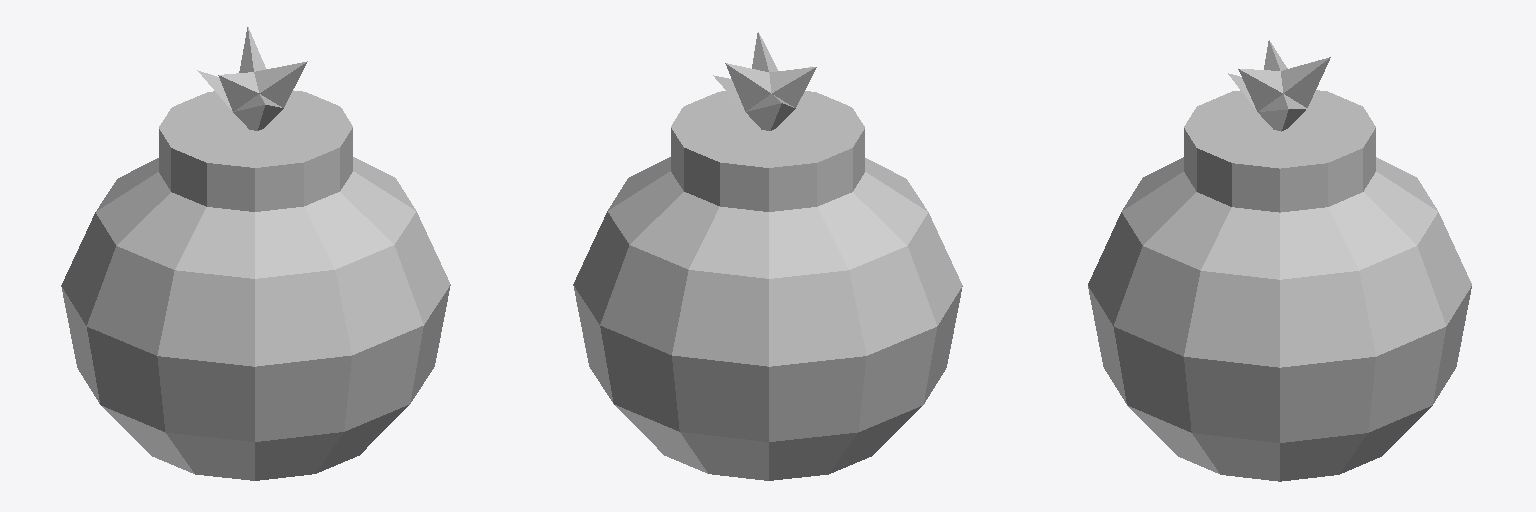
The model's file is bomb.obj.
3 renders of one model, left to right at view 1: azimuth 30°, elevation 25°; view 2: azimuth 150°, elevation 25°; view 3: azimuth 270°, elevation 25°, orthographic.
Visible parts, largest first — view 1: Mesh.104_DrawCall_110; view 2: Mesh.104_DrawCall_110; view 3: Mesh.104_DrawCall_110.
Part boxes in pixels (x1,y1,x2,y2): Mesh.104_DrawCall_110: (61, 27, 450, 480); Mesh.104_DrawCall_110: (573, 32, 962, 480); Mesh.104_DrawCall_110: (1088, 40, 1471, 481).
Bounding box in the file's own units: 10.31 × 12.07 × 10.14.